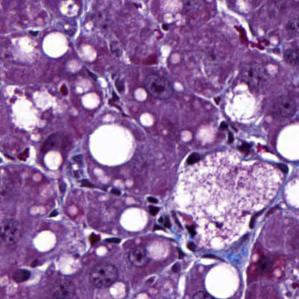ballooning: (167, 136, 287, 259)
